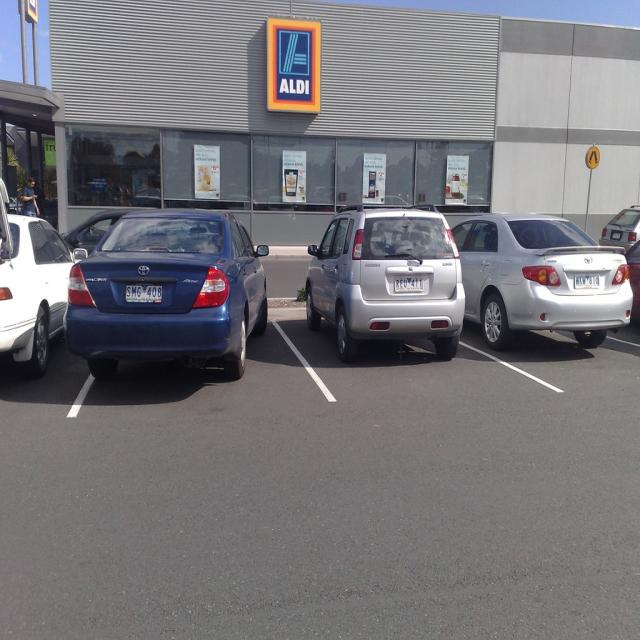aldi: (268, 19, 323, 115)
